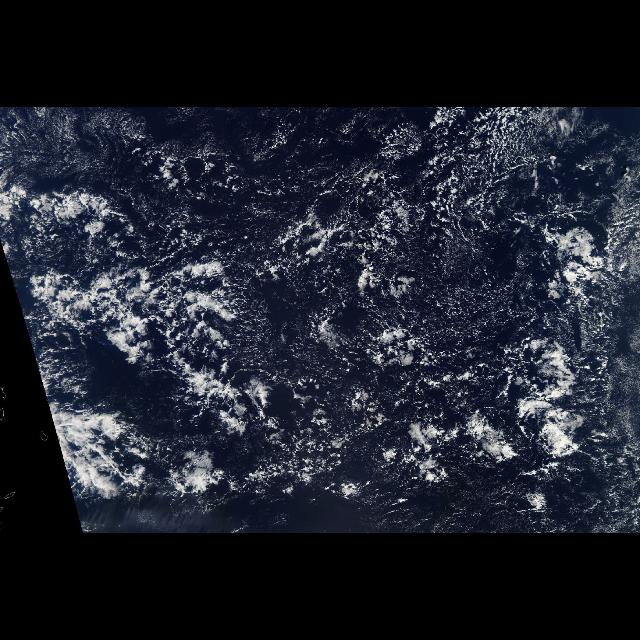Gravel: (126, 114, 630, 534)
